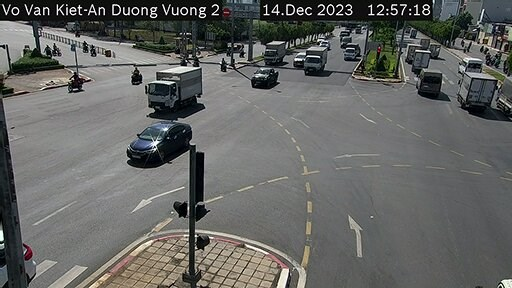car: (121, 112, 192, 171), (415, 68, 443, 95), (455, 54, 485, 74), (250, 66, 271, 90)
truck: (128, 63, 208, 115), (457, 73, 489, 113), (305, 45, 328, 81), (262, 38, 285, 65), (412, 51, 432, 71), (343, 41, 361, 60)
